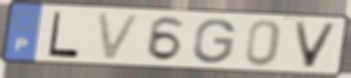0: (243, 18, 285, 68)
6: (143, 15, 187, 63)
G: (191, 17, 238, 66)
L: (46, 10, 81, 60)
V: (93, 11, 144, 62), (290, 20, 341, 69)
